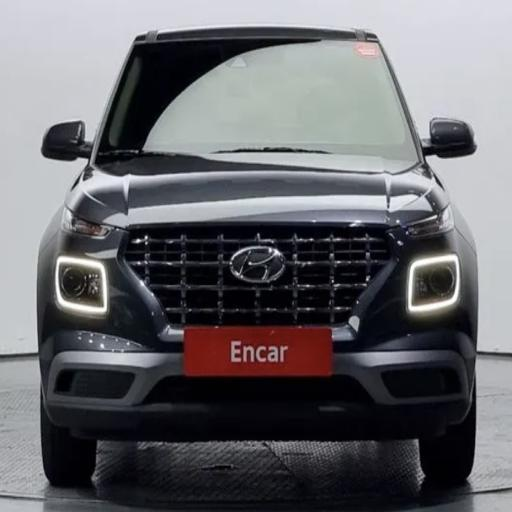normal: (26, 18, 492, 482)
